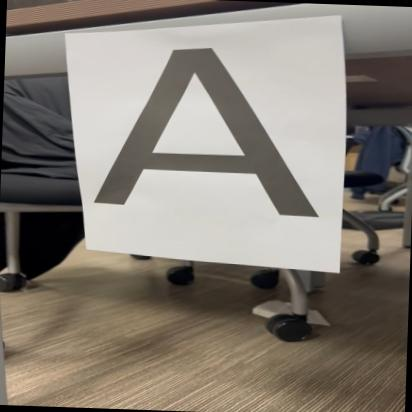seat: (92, 40, 337, 230)
